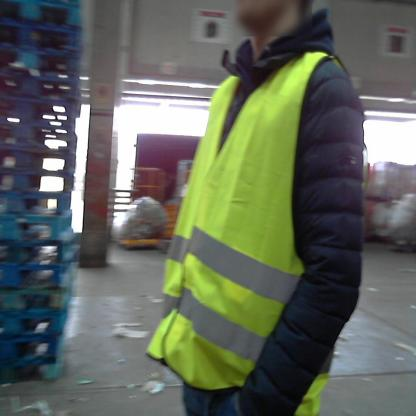pallet: (1, 316, 76, 377), (2, 15, 82, 59), (2, 115, 81, 159), (1, 250, 74, 291), (2, 297, 73, 338), (3, 277, 85, 312), (1, 164, 80, 199), (2, 71, 83, 105), (2, 92, 83, 126), (2, 38, 85, 71), (0, 234, 78, 268), (1, 350, 67, 388), (2, 1, 85, 31), (4, 208, 78, 241), (2, 139, 80, 170), (4, 189, 78, 216)
